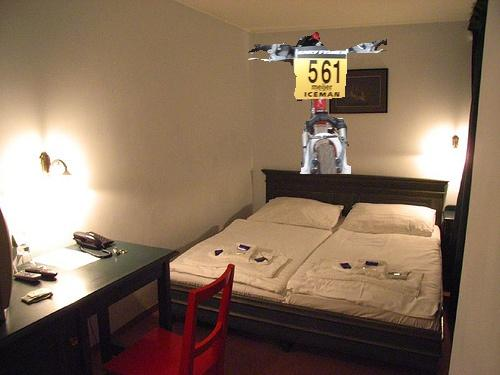tampered: (249, 33, 387, 174)
